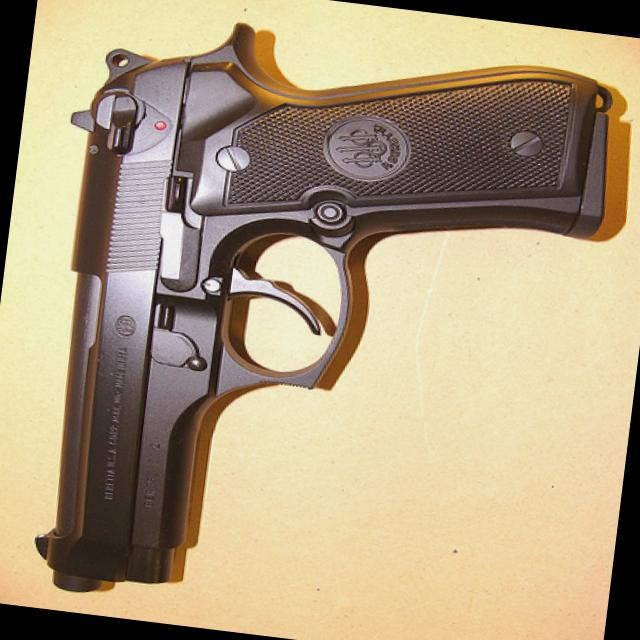handgun: (9, 3, 617, 639)
